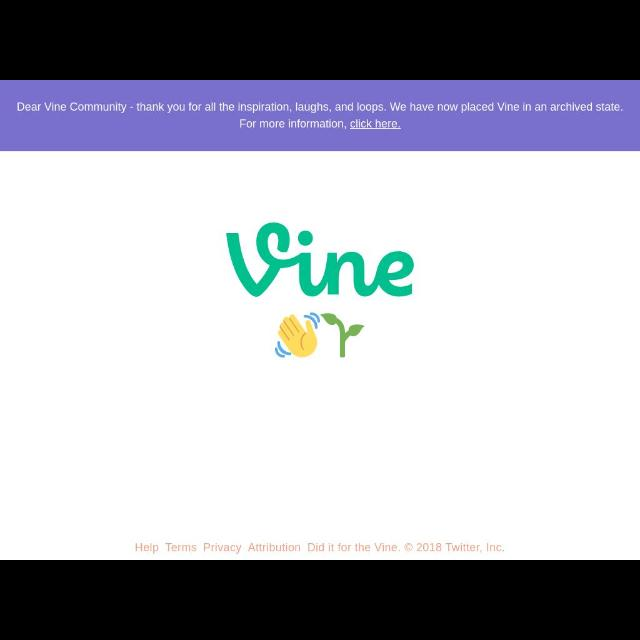icon: (404, 542, 412, 552), (406, 544, 412, 552)
iframe: (1, 81, 639, 151)
image: (227, 224, 416, 302), (272, 313, 368, 362)
link: (350, 119, 400, 129)
text: (15, 102, 625, 114), (240, 118, 400, 130), (307, 541, 399, 553), (416, 542, 504, 554), (248, 541, 302, 553), (203, 540, 241, 554), (134, 540, 160, 554), (166, 542, 198, 552)
